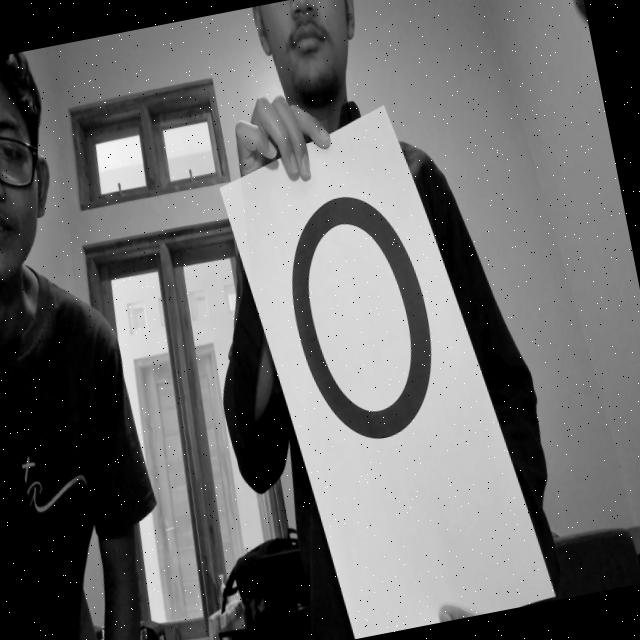o: (260, 172, 460, 460)
